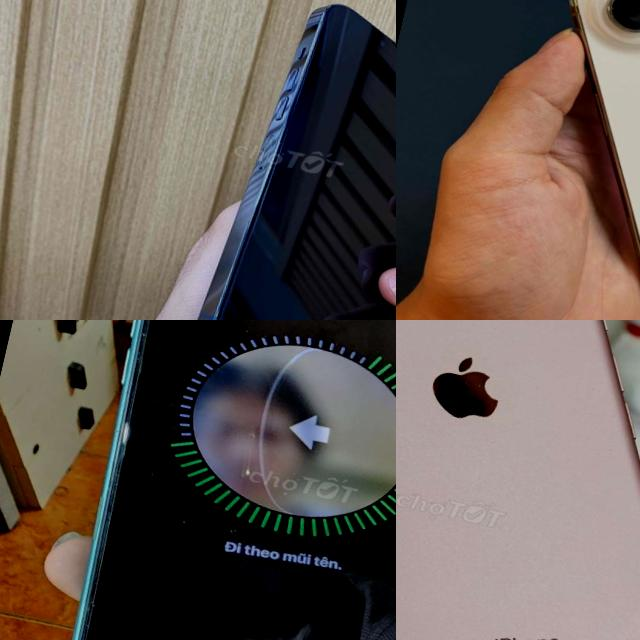scratch: (90, 412, 140, 529), (47, 570, 108, 640), (119, 320, 155, 380), (456, 372, 488, 391)
